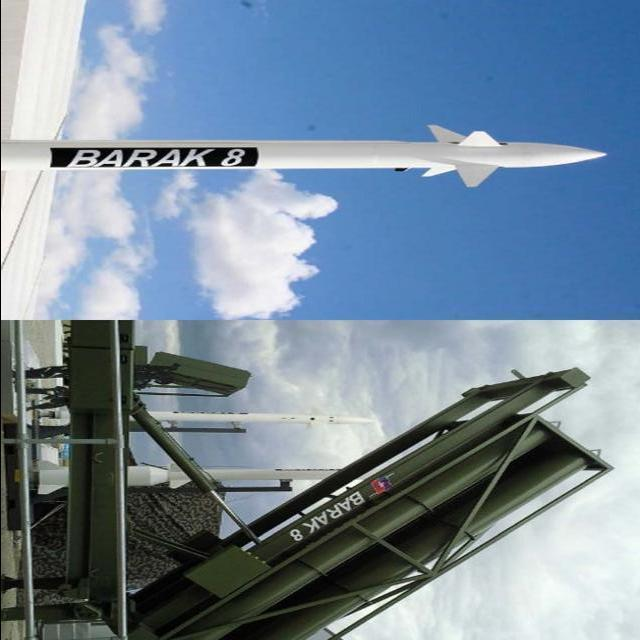Missile: (0, 126, 624, 187)
